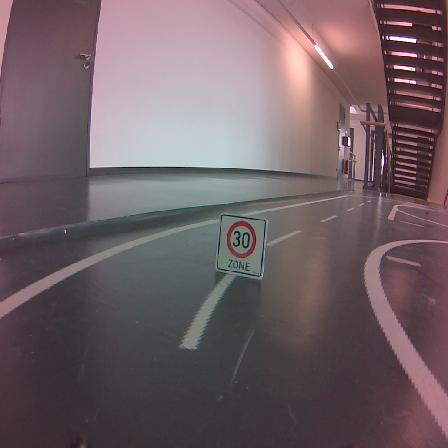30_ZONE_BEGIN: (215, 213, 268, 279)
